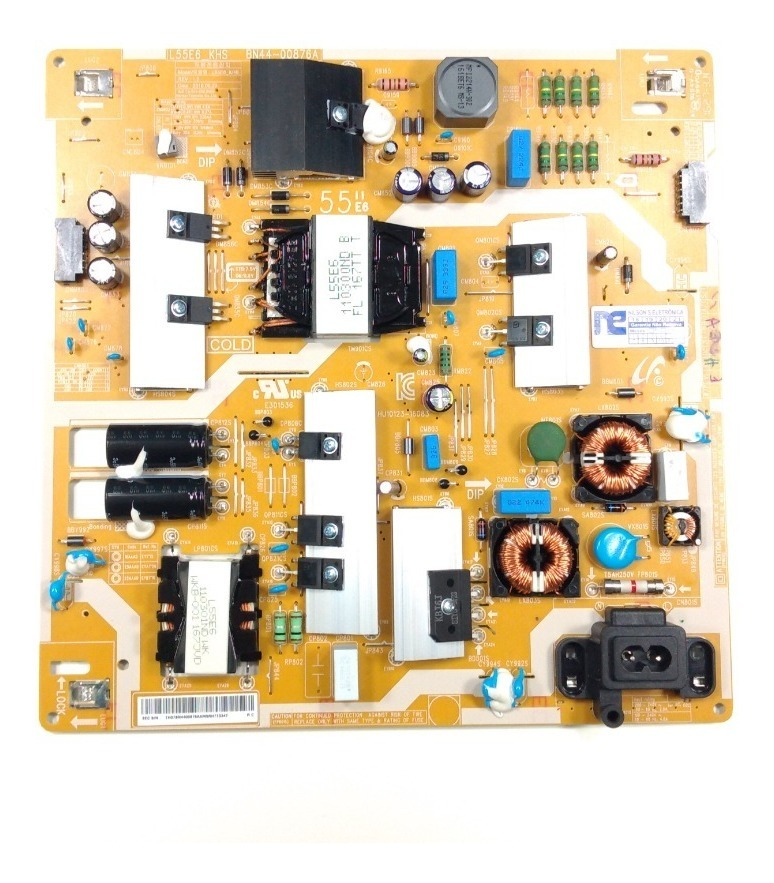capacitor: (389, 158, 427, 204), (80, 252, 124, 290), (422, 379, 466, 416), (84, 185, 123, 223), (456, 159, 488, 198), (89, 219, 128, 251), (424, 164, 454, 196)
